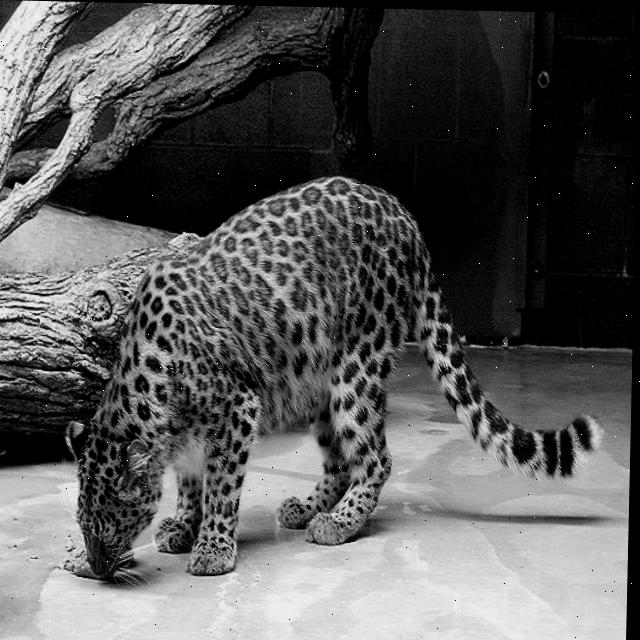Leopard: (61, 167, 610, 597)
